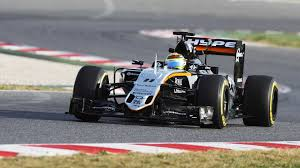f1_car: (60, 27, 285, 136)
